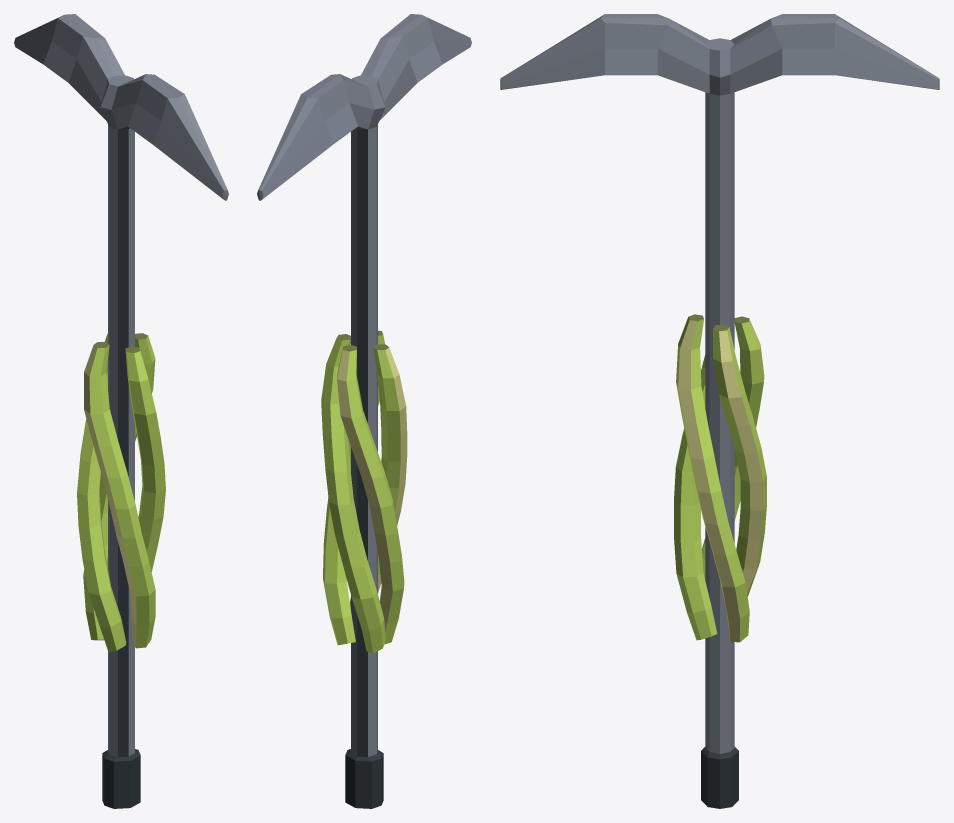
The model's file is poste1.fbx.
3 views of the same model, side by side, from view 1: azimuth 30°, elevation 25°; view 2: azimuth 150°, elevation 25°; view 3: azimuth 270°, elevation 25° (orthographic). The views are drawn at different scales.
Parts seen in each view (by area): view 1: Cylinder, Cylinder.001, Cylinder.004, Cylinder.002, Cylinder.003; view 2: Cylinder, Cylinder.003, Cylinder.004, Cylinder.001, Cylinder.002; view 3: Cylinder, Cylinder.002, Cylinder.003, Cylinder.001, Cylinder.004.
Part boxes in pixels (bbox=[...]): Cylinder: bbox=[14, 14, 228, 808]; Cylinder.001: bbox=[84, 342, 155, 648]; Cylinder.004: bbox=[77, 333, 126, 652]; Cylinder.002: bbox=[125, 346, 165, 571]; Cylinder.003: bbox=[83, 333, 155, 640]; Cylinder: bbox=[257, 14, 471, 808]; Cylinder.003: bbox=[321, 334, 385, 653]; Cylinder.004: bbox=[337, 345, 404, 644]; Cylinder.001: bbox=[350, 344, 407, 608]; Cylinder.002: bbox=[323, 330, 384, 645]; Cylinder: bbox=[500, 14, 939, 808]; Cylinder.002: bbox=[676, 314, 749, 642]; Cylinder.003: bbox=[713, 324, 766, 596]; Cylinder.001: bbox=[674, 355, 717, 640]; Cylinder.004: bbox=[702, 316, 764, 579].
Size of the model in its own units: 90.12 by 835 by 425.
